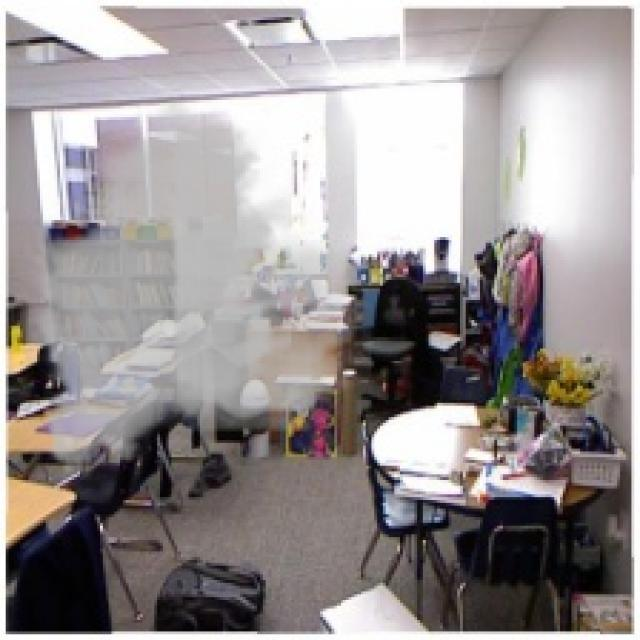Smoke: (22, 89, 372, 492)
